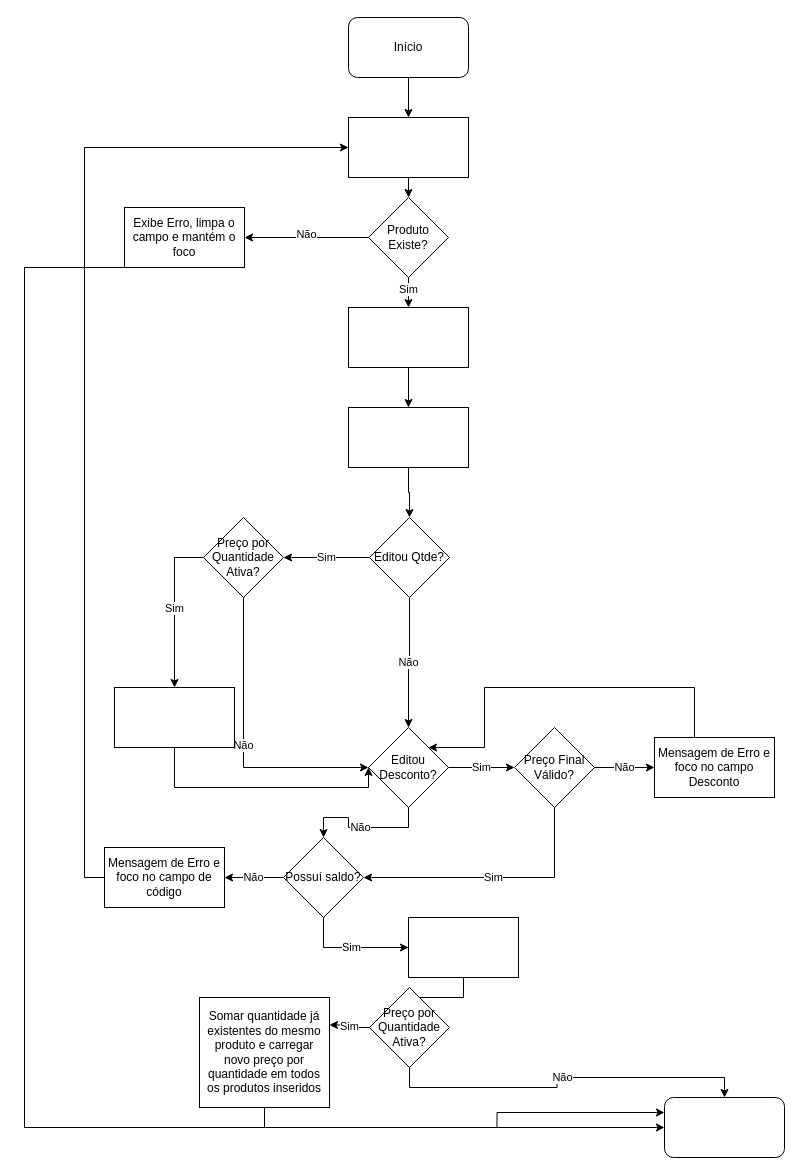
This 802x1175 diagram has some shape labels left out. Each missing label, with the box of its shape:
Carrega informações do Produto: (348, 306, 468, 368)
Carrega Preço unitário especifico: (114, 686, 234, 748)
Consultar código do produto digitado em campo próprio: (348, 116, 468, 178)
Exibir em Tela as informações carregadas: (348, 406, 468, 468)
Fim: (664, 1096, 784, 1158)
Inserir Produto: (408, 916, 518, 978)
